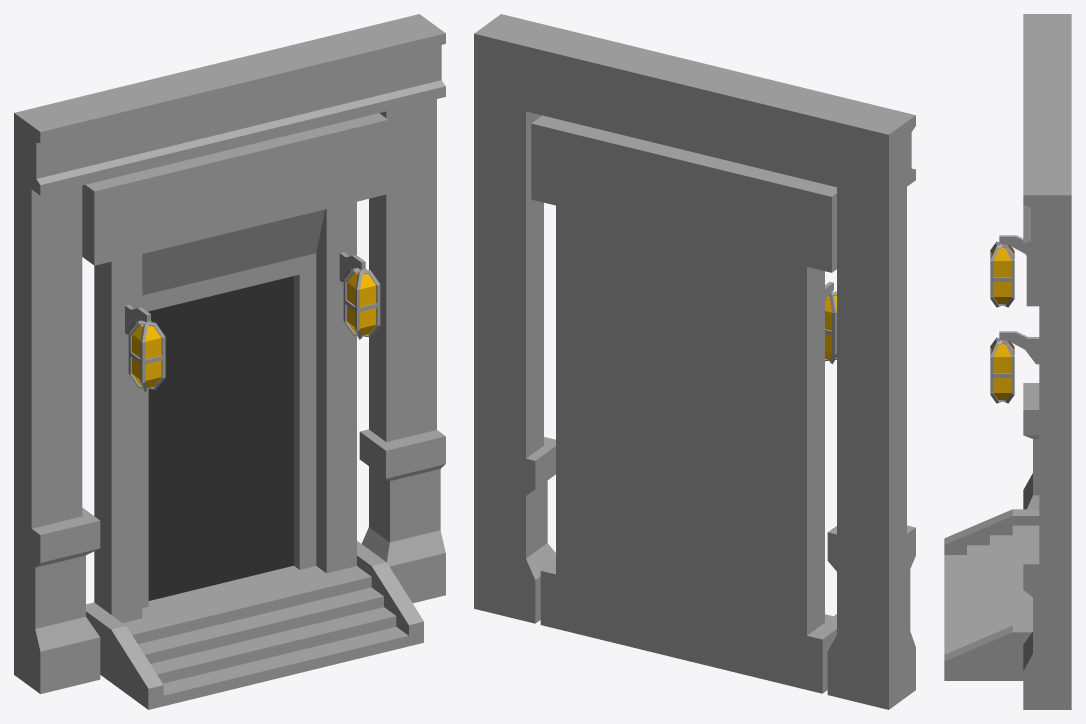
The model's file is Prop_Doorway_Wall_Dressing_Castle_Dungeon_Stone_01.fbx.
3 renders of one model, left to right at view 1: azimuth 30°, elevation 25°; view 2: azimuth 150°, elevation 25°; view 3: azimuth 270°, elevation 25°, orthographic. The views are drawn at different scales.
Parts seen in each view (by area): view 1: Prop_Doorway_Wall_Dressing_Castle_Dungeon_Stone_01; view 2: Prop_Doorway_Wall_Dressing_Castle_Dungeon_Stone_01; view 3: Prop_Doorway_Wall_Dressing_Castle_Dungeon_Stone_01.
Part boxes in pixels (left/top/right/bottom): Prop_Doorway_Wall_Dressing_Castle_Dungeon_Stone_01: left=14, top=14, right=445, bottom=709; Prop_Doorway_Wall_Dressing_Castle_Dungeon_Stone_01: left=474, top=14, right=915, bottom=709; Prop_Doorway_Wall_Dressing_Castle_Dungeon_Stone_01: left=944, top=14, right=1071, bottom=709.
Size of the model in its own units: 139 by 184 by 41.14.
